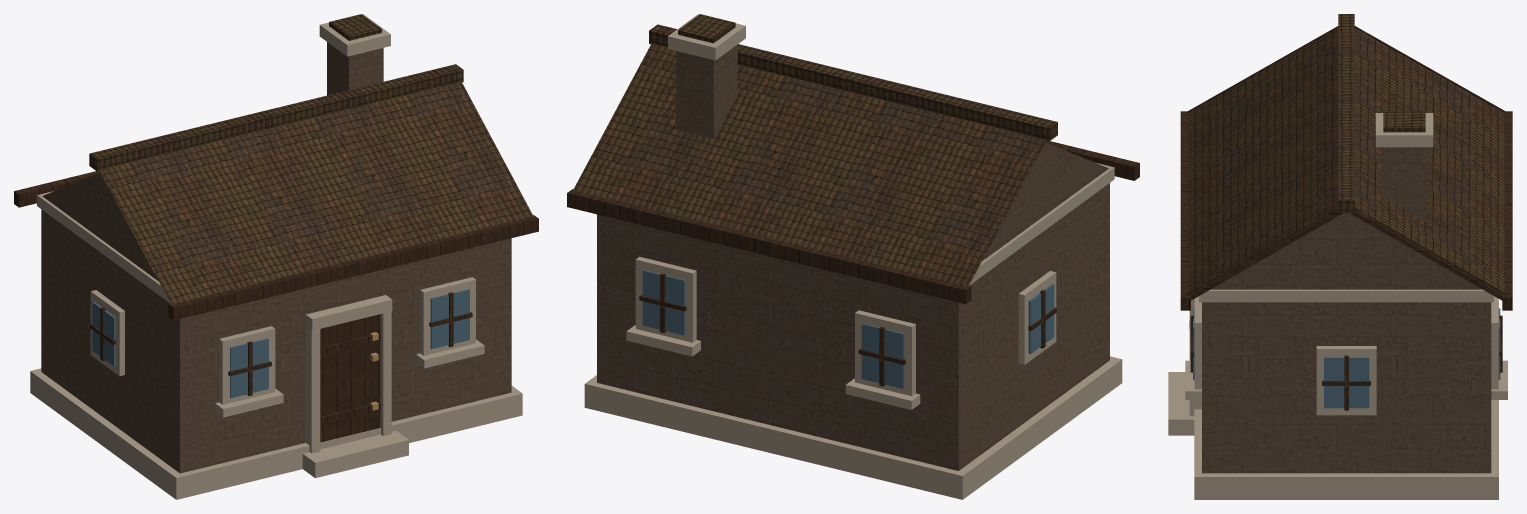
The model's file is building.glb.
The picture shows the model from 3 angles, left to right: view 1: azimuth 30°, elevation 25°; view 2: azimuth 150°, elevation 25°; view 3: azimuth 270°, elevation 25°; orthographic projection. The views are drawn at different scales.
Visible parts, largest first — view 1: Stone gatehouse; view 2: Stone gatehouse; view 3: Stone gatehouse.
Part boxes in pixels (x1=…): Stone gatehouse: x1=14, y1=14, x2=538, y2=499; Stone gatehouse: x1=567, y1=14, x2=1139, y2=499; Stone gatehouse: x1=1168, y1=14, x2=1512, y2=499.
Size of the model in its own units: 5.95 by 5.16 by 4.64.
Materials: 6 (3 with a texture image).
